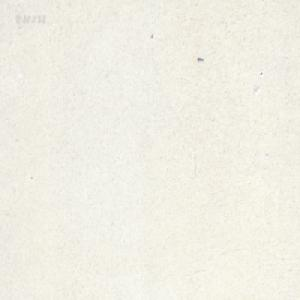Nail: (197, 55, 204, 61)
